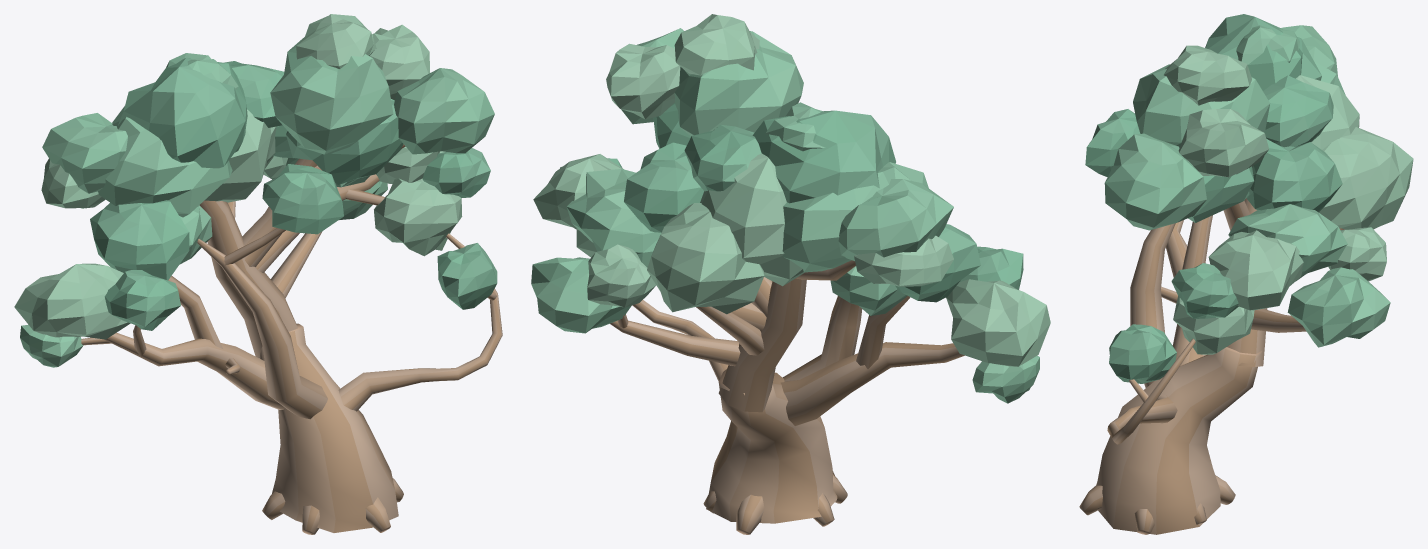
Rendered from living_tree.glb.
The picture shows the model from 3 angles, left to right: view 1: azimuth 30°, elevation 25°; view 2: azimuth 150°, elevation 25°; view 3: azimuth 270°, elevation 25°; orthographic projection. The views are drawn at different scales.
Visible parts, largest first — view 1: FlaredTrunk, FoliageCluster19, FoliageCluster00, FoliageCluster22, FoliageCluster01, FoliageCluster08, FoliageCluster06, CabinSideTrunk, FoliageCluster17, FoliageCluster04, FoliageCluster24, LongWestBough (+22 smaller); view 2: FlaredTrunk, FoliageCluster11, FoliageCluster00, FoliageCluster19, FoliageCluster08, FoliageCluster02, FoliageCluster04, FoliageCluster01, LongWestBough, MainLeader, FoliageCluster13, FoliageCluster12 (+20 smaller); view 3: FlaredTrunk, FoliageCluster22, FoliageCluster11, FoliageCluster25, FoliageCluster14, FoliageCluster12, FoliageCluster19, FoliageCluster23, FoliageCluster13, FoliageCluster03, FoliageCluster20, FoliageCluster00 (+17 smaller).
Part boxes in pixels (bbox=[...]): FlaredTrunk: bbox=[259, 323, 398, 532]; FoliageCluster19: bbox=[270, 37, 393, 154]; FoliageCluster00: bbox=[118, 57, 247, 168]; FoliageCluster22: bbox=[394, 68, 494, 154]; FoliageCluster01: bbox=[98, 106, 232, 217]; FoliageCluster08: bbox=[14, 263, 130, 339]; FoliageCluster06: bbox=[90, 200, 189, 280]; CabinSideTrunk: bbox=[197, 239, 327, 419]; FoliageCluster17: bbox=[374, 178, 462, 256]; FoliageCluster04: bbox=[42, 113, 127, 193]; FoliageCluster24: bbox=[262, 164, 343, 234]; LongWestBough: bbox=[104, 332, 300, 409]; FlaredTrunk: bbox=[706, 369, 837, 523]; FoliageCluster11: bbox=[647, 203, 764, 314]; FoliageCluster00: bbox=[752, 110, 895, 203]; FoliageCluster19: bbox=[674, 31, 803, 135]; FoliageCluster08: bbox=[946, 279, 1050, 366]; FoliageCluster02: bbox=[700, 153, 804, 286]; FoliageCluster04: bbox=[838, 179, 953, 260]; FoliageCluster01: bbox=[782, 162, 928, 272]; LongWestBough: bbox=[780, 342, 964, 425]; MainLeader: bbox=[718, 278, 806, 412]; FoliageCluster13: bbox=[566, 169, 661, 267]; FoliageCluster12: bbox=[624, 142, 703, 232]; FlaredTrunk: bbox=[1096, 347, 1262, 534]; FoliageCluster22: bbox=[1104, 133, 1206, 230]; FoliageCluster11: bbox=[1319, 127, 1413, 229]; FoliageCluster25: bbox=[1287, 267, 1390, 347]; FoliageCluster14: bbox=[1208, 230, 1303, 310]; FoliageCluster12: bbox=[1247, 139, 1342, 212]; FoliageCluster19: bbox=[1133, 64, 1270, 147]; FoliageCluster23: bbox=[1178, 109, 1268, 177]; FoliageCluster13: bbox=[1228, 204, 1347, 280]; FoliageCluster03: bbox=[1263, 75, 1333, 147]; FoliageCluster20: bbox=[1164, 45, 1251, 105]; FoliageCluster00: bbox=[1205, 14, 1321, 90].
Bounding box in the file's own units: 23.52 × 23.23 × 14.93.
